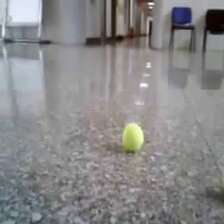tennis: (121, 121, 145, 151)
